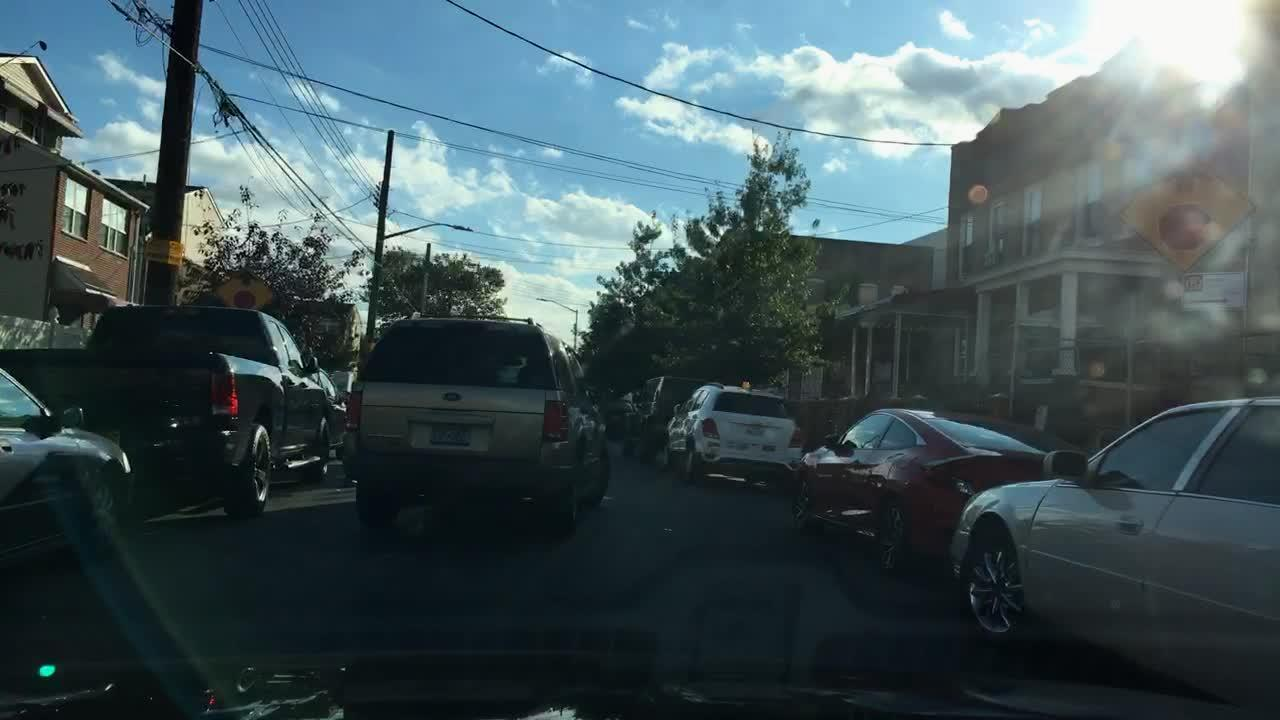ford: (440, 391, 468, 406)
